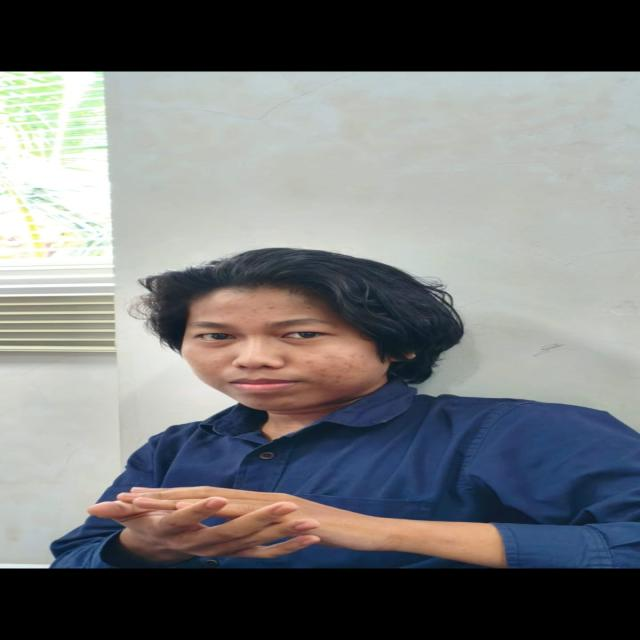sem_oculos: (154, 310, 438, 353)
